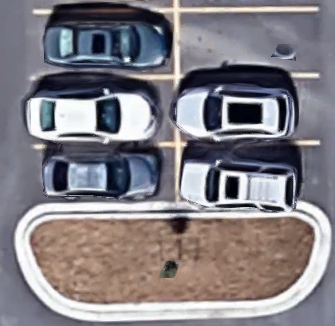Occupied: (30, 77, 178, 146), (30, 11, 177, 77), (177, 77, 319, 143), (33, 144, 177, 207), (177, 143, 318, 207)
Vacant: (177, 10, 319, 77)
